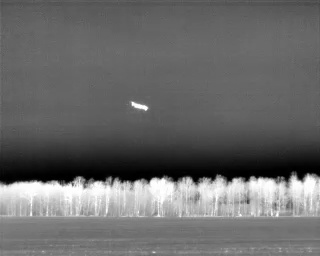DRONE: (127, 96, 152, 116)
